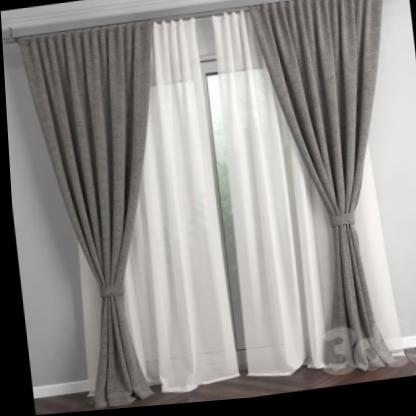Curtains: (246, 0, 389, 378), (16, 24, 154, 411)
